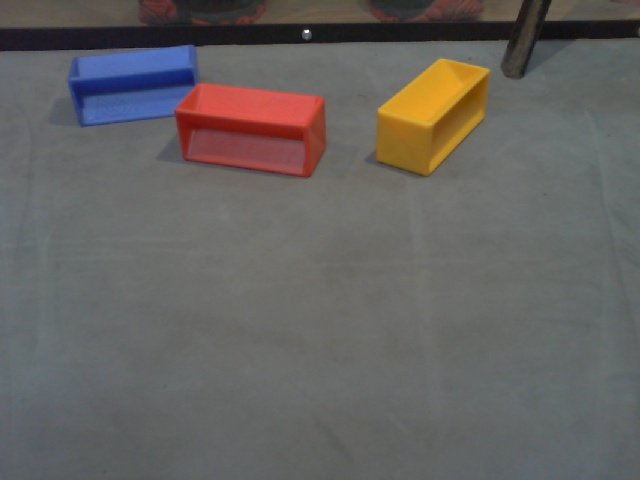BlueSample: (65, 41, 201, 130)
RedSample: (171, 79, 330, 180)
YellowSample: (373, 56, 491, 177)
